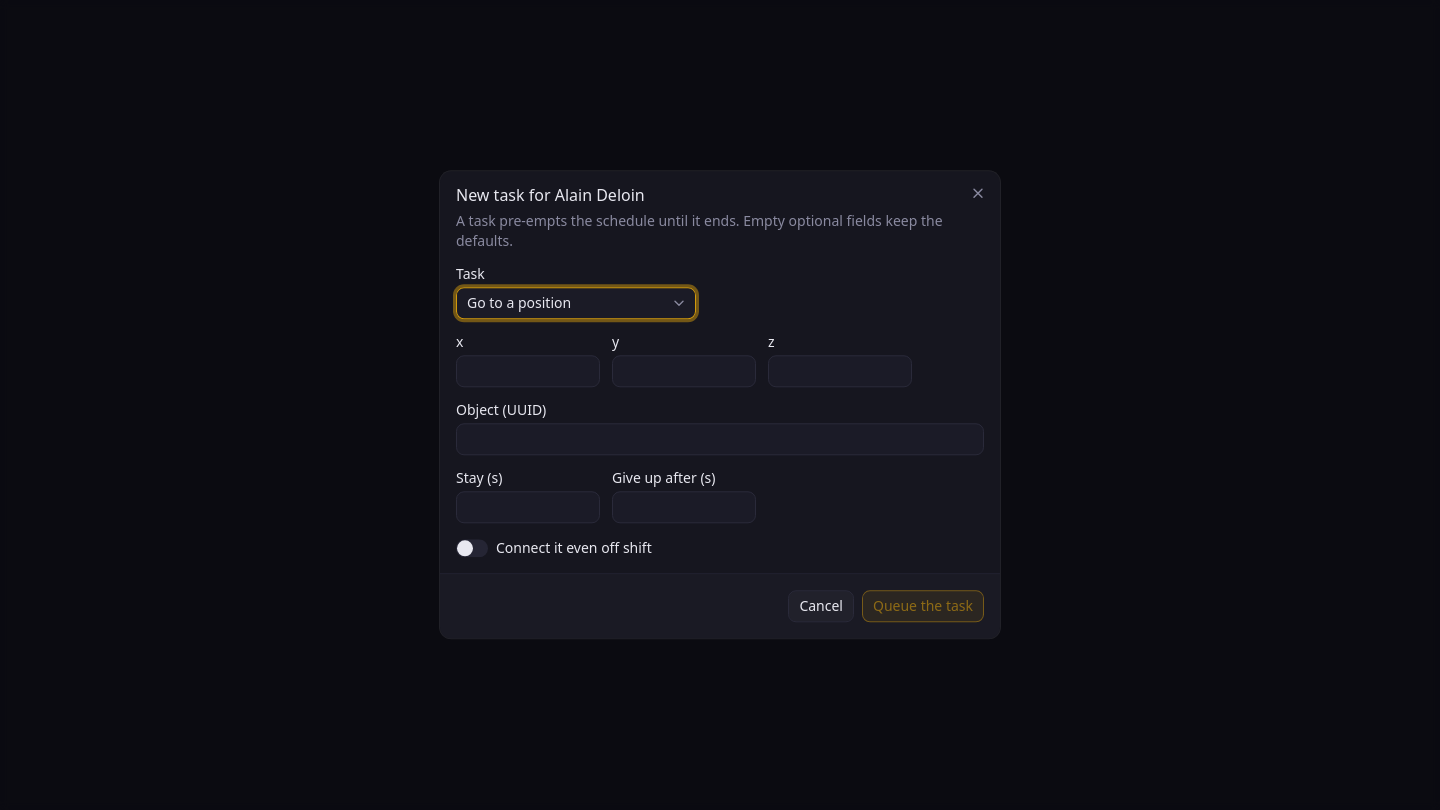
Test: NpcTaskDialog › refuses a wait longer than an hour
This screenshot has width=1440, height=810.
Click the dropdown named "Task" at x=576, y=303, box [456,287,696,319]
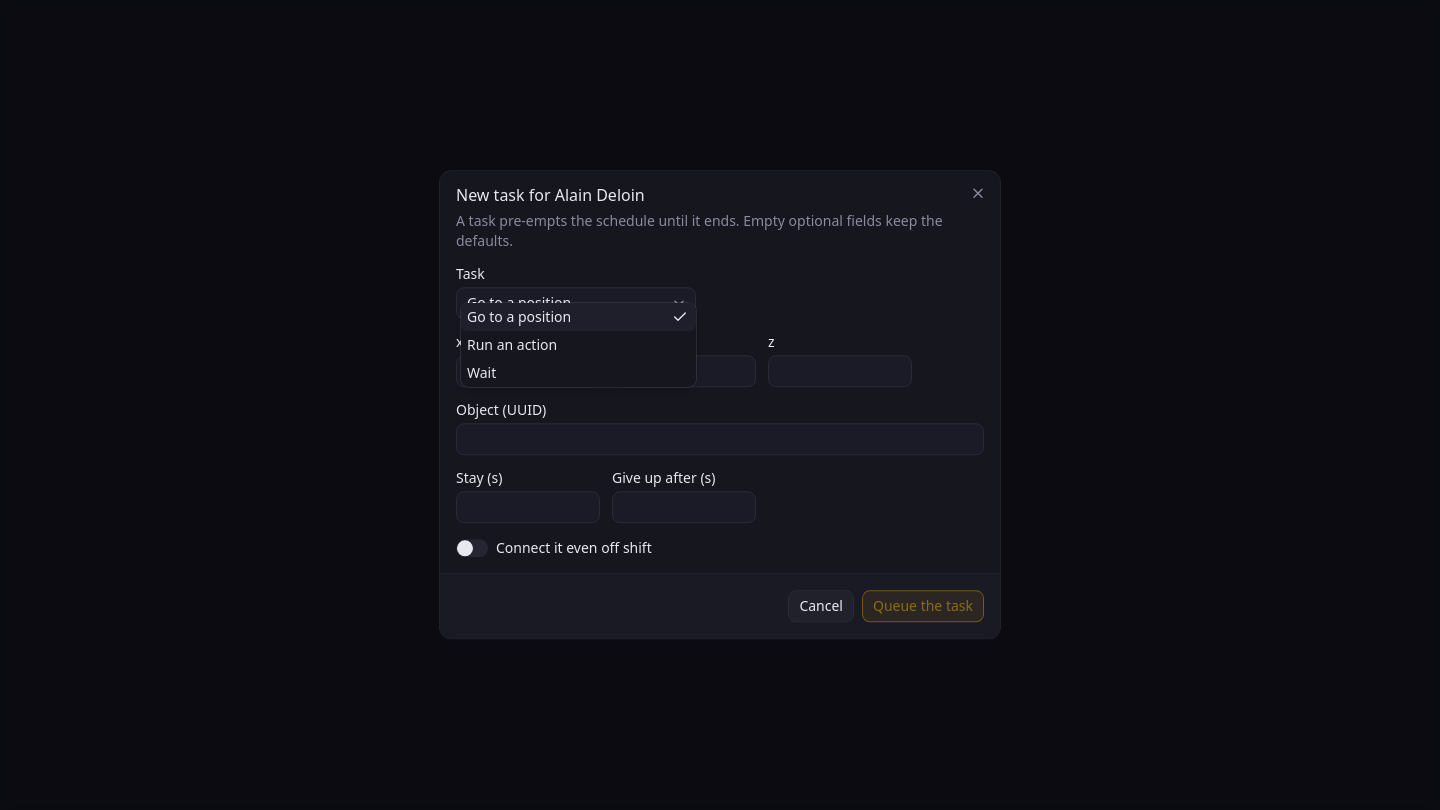
Click the option "Wait" at x=482, y=372, box [467,363,496,382]
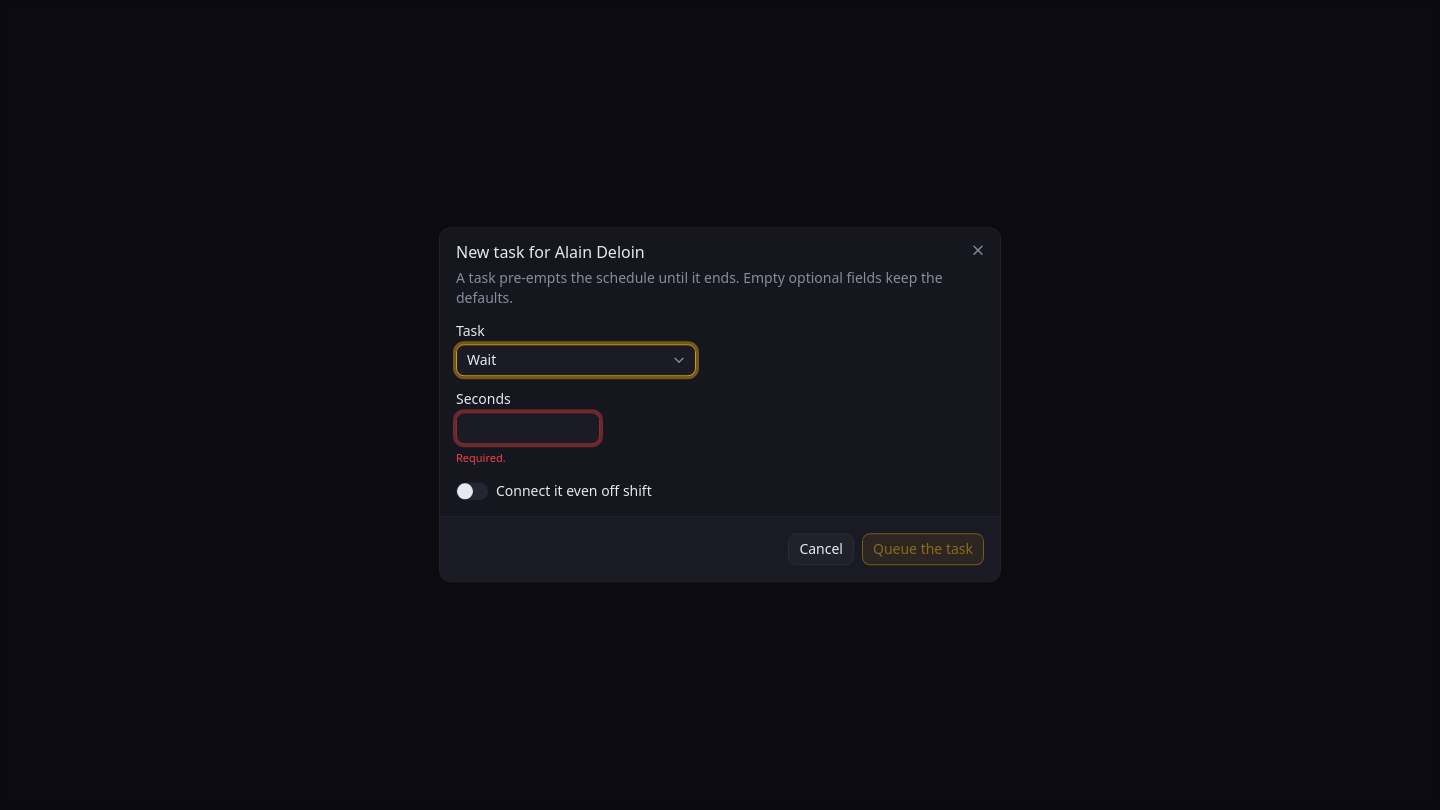
Type "3601" into the number field labelled "Seconds" at x=528, y=428, box [456,412,600,444]
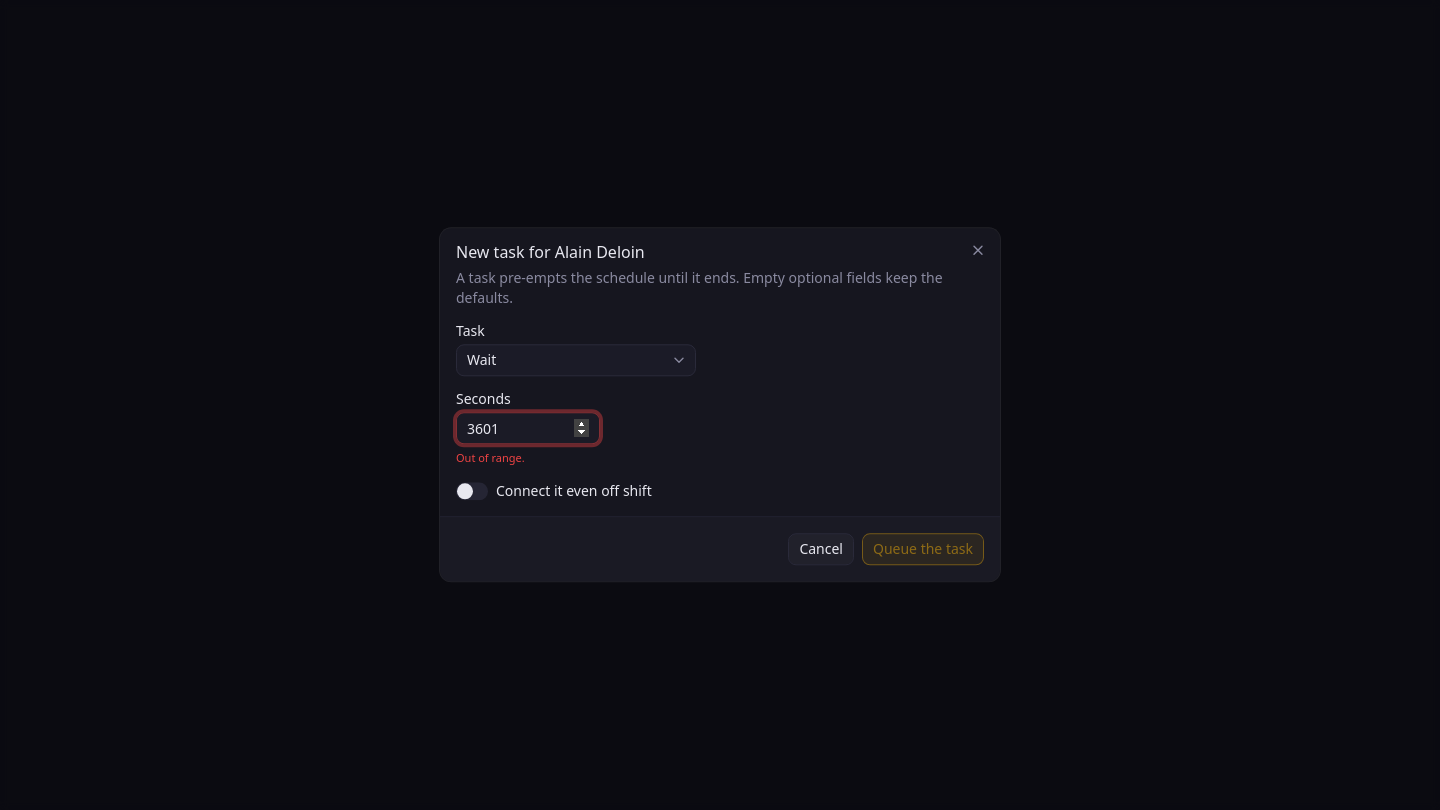
Expected: the button "Queue the task" is disabled, [862,534,984,566]
Expected: the text "Out of range." is shown, [456,450,525,465]
